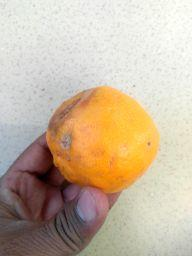Unripe: (45, 90, 163, 188)
